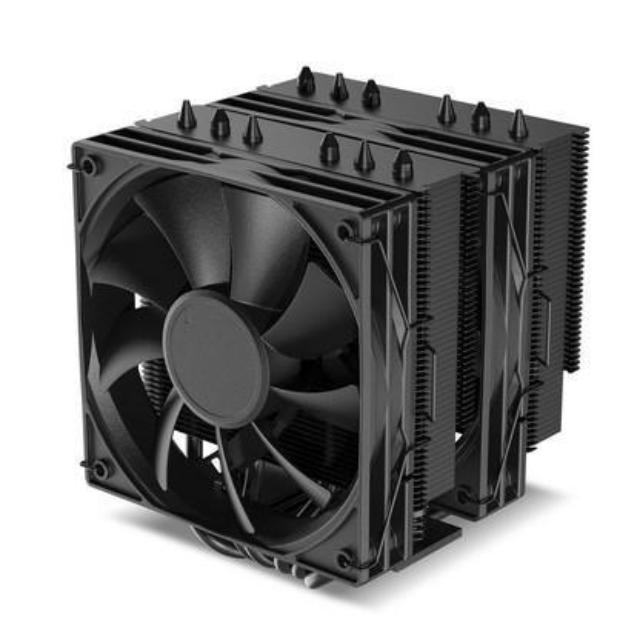CPU_Fan: (60, 55, 592, 593)
